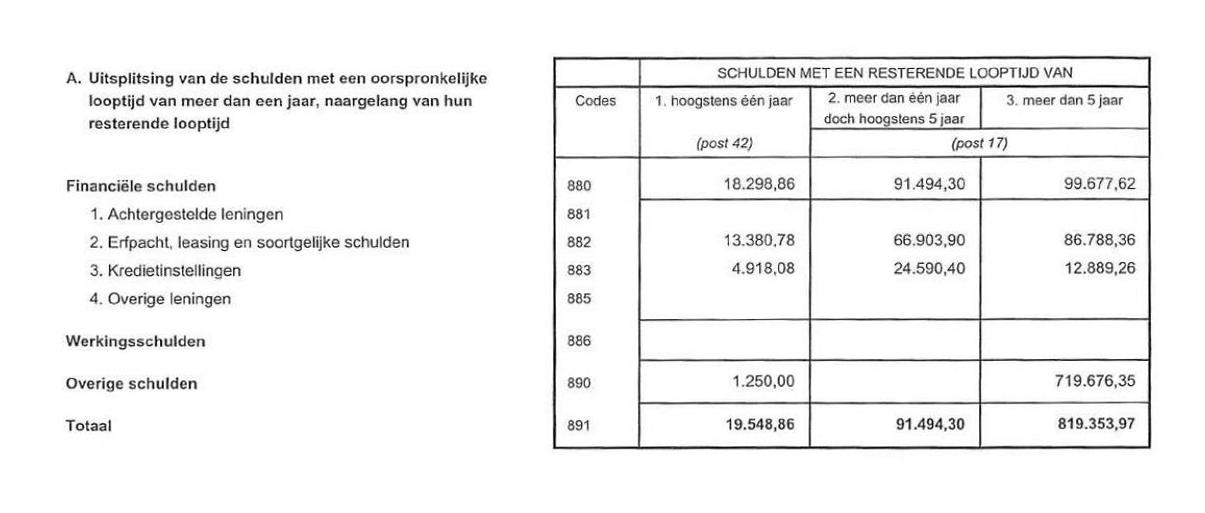table: (57, 56, 1151, 447)
table column: (59, 66, 514, 440), (810, 88, 980, 447), (641, 88, 810, 446), (981, 87, 1149, 446), (553, 58, 638, 449)
table column header: (716, 65, 1075, 80), (823, 91, 964, 126), (655, 94, 794, 109), (1005, 91, 1124, 108), (575, 93, 616, 107)
table projected row header: (65, 178, 219, 195)
table row: (65, 69, 495, 131), (90, 233, 415, 255), (87, 204, 288, 222), (90, 261, 246, 279), (86, 290, 236, 308), (67, 374, 201, 393), (62, 332, 208, 349), (62, 419, 116, 436)
